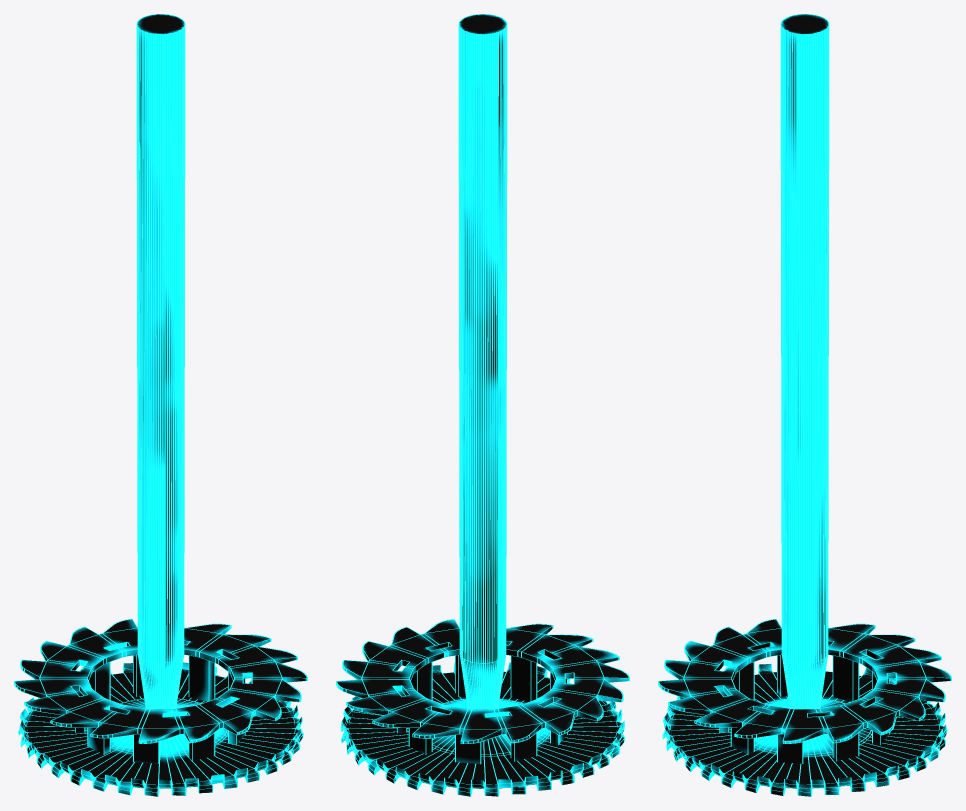
The model's file is Paint_mixer.glb.
The picture shows the model from 3 angles, left to right: view 1: azimuth 30°, elevation 25°; view 2: azimuth 150°, elevation 25°; view 3: azimuth 270°, elevation 25°; orthographic projection.
Parts seen in each view (by area): view 1: Paint_mixer; view 2: Paint_mixer; view 3: Paint_mixer.
Boxes of the visible parts, x1,y1,x2,y2 form: Paint_mixer: (14, 14, 307, 796); Paint_mixer: (336, 14, 629, 796); Paint_mixer: (658, 14, 951, 796).
Size of the model in its own units: 4.88 by 13.17 by 4.92.
2 materials, 1 textured.
